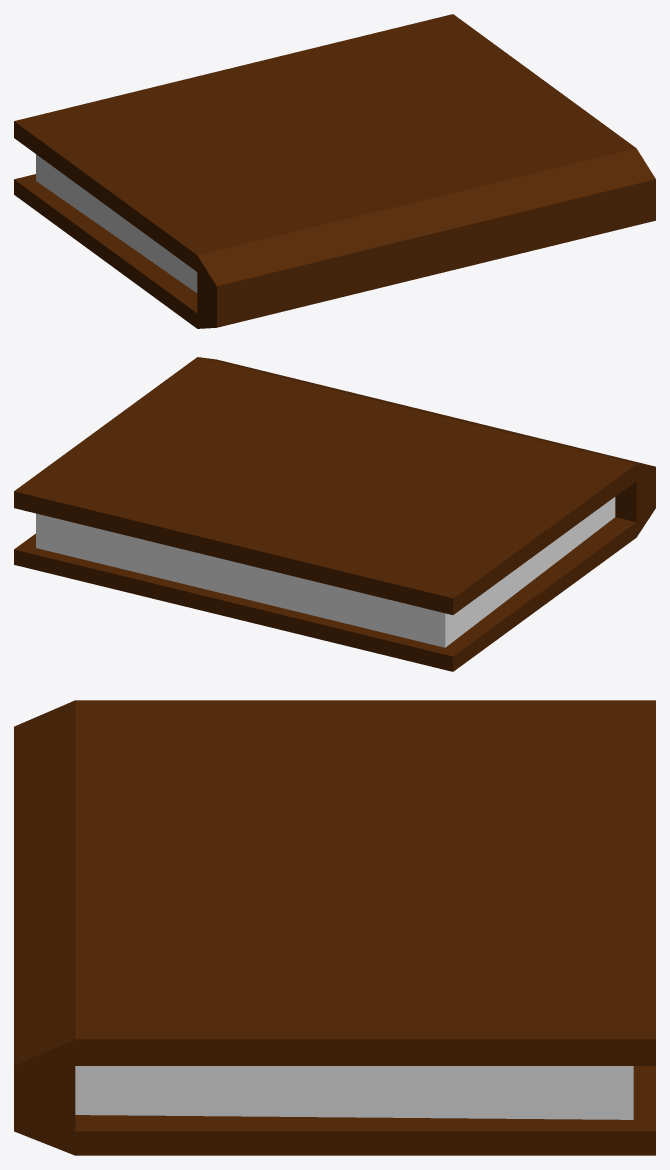
The model's file is brownbook.fbx.
3 renders of one model, top to bottom at view 1: azimuth 30°, elevation 25°; view 2: azimuth 150°, elevation 25°; view 3: azimuth 270°, elevation 25°, orthographic. The views are drawn at different scales.
Visible parts, largest first — view 1: Cube; view 2: Cube; view 3: Cube.
Boxes of the visible parts, x1,y1,x2,y2 form: Cube: [14, 14, 655, 328]; Cube: [14, 357, 655, 671]; Cube: [14, 700, 655, 1155].
Bounding box in the file's own units: 250 × 40 × 200.
